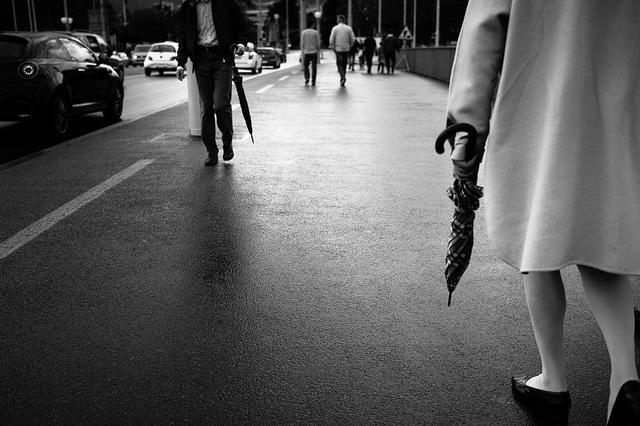car: (1, 36, 129, 162), (144, 42, 188, 78), (56, 31, 108, 47), (254, 46, 283, 68), (235, 50, 263, 72), (130, 45, 152, 68), (118, 52, 130, 61)
